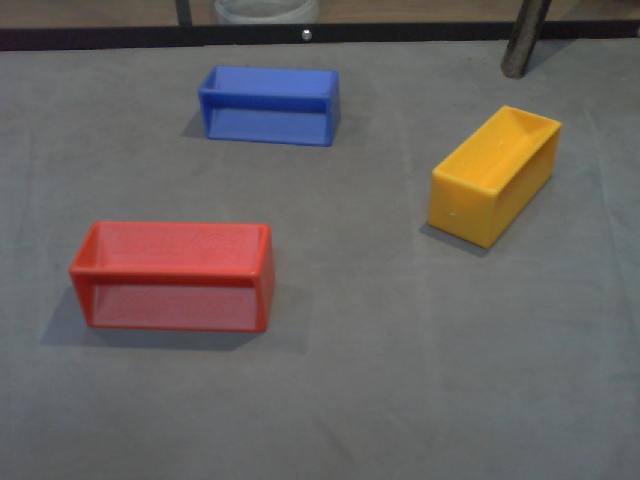BlueSample: (195, 60, 344, 147)
RedSample: (65, 214, 277, 334)
YellowSample: (424, 101, 563, 251)
